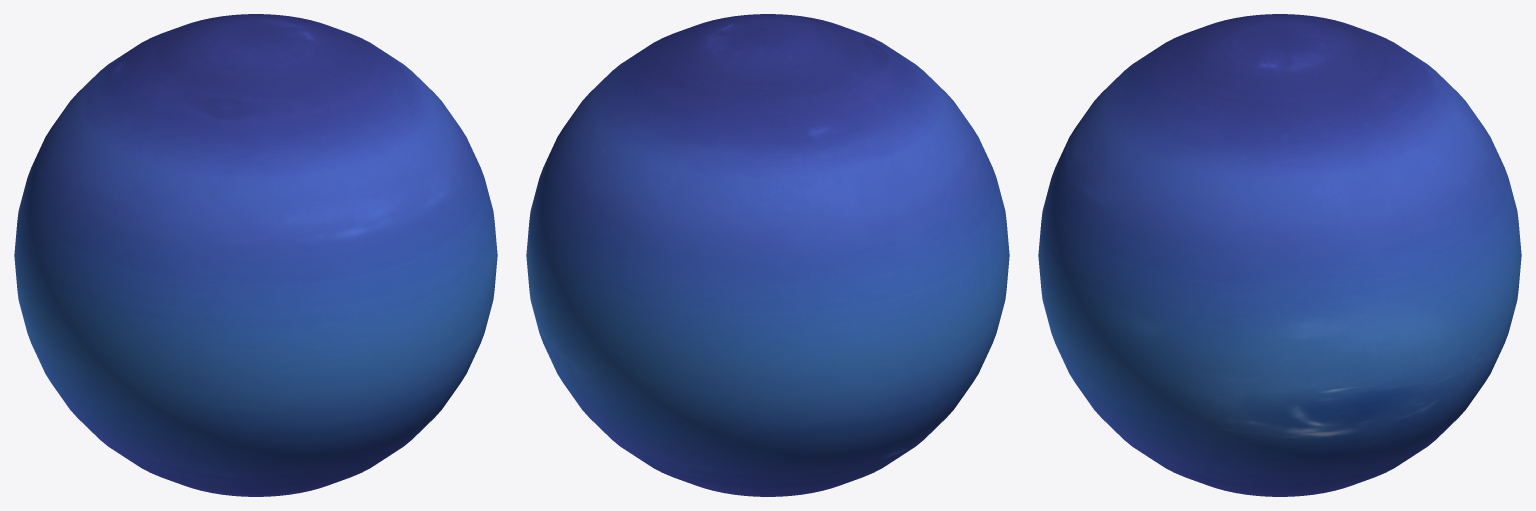
File: neptune.glb
The picture shows the model from 3 angles, left to right: view 1: azimuth 30°, elevation 25°; view 2: azimuth 150°, elevation 25°; view 3: azimuth 270°, elevation 25°; orthographic projection.
Visible parts, largest first — view 1: Sphere; view 2: Sphere; view 3: Sphere.
Part boxes in pixels (<box>): Sphere: <box>14,14,497,496</box>; Sphere: <box>526,14,1009,496</box>; Sphere: <box>1038,14,1521,496</box>.
Size of the model in its own units: 2 by 2 by 2.
1 material, 1 textured.
